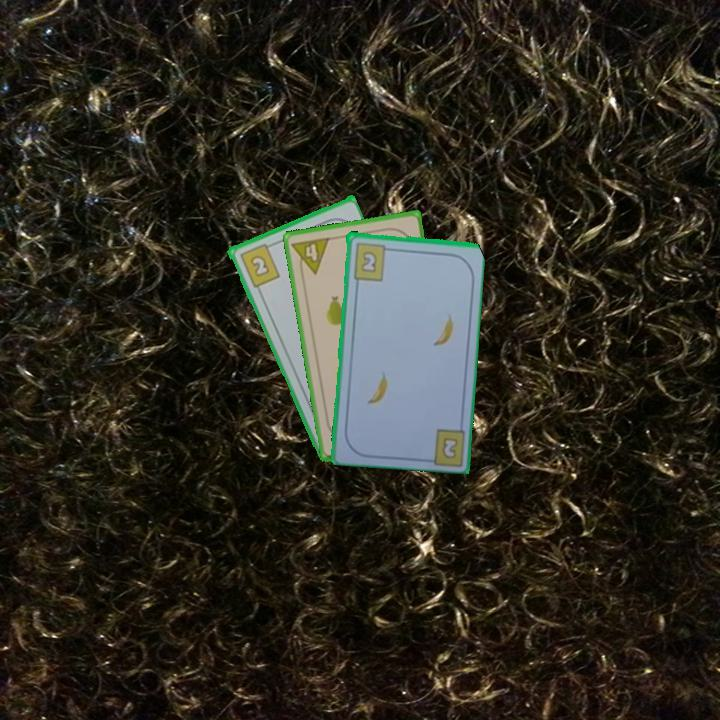2b: (236, 239, 282, 290), (349, 239, 394, 283), (440, 436, 458, 459)
4p: (288, 234, 332, 279)
